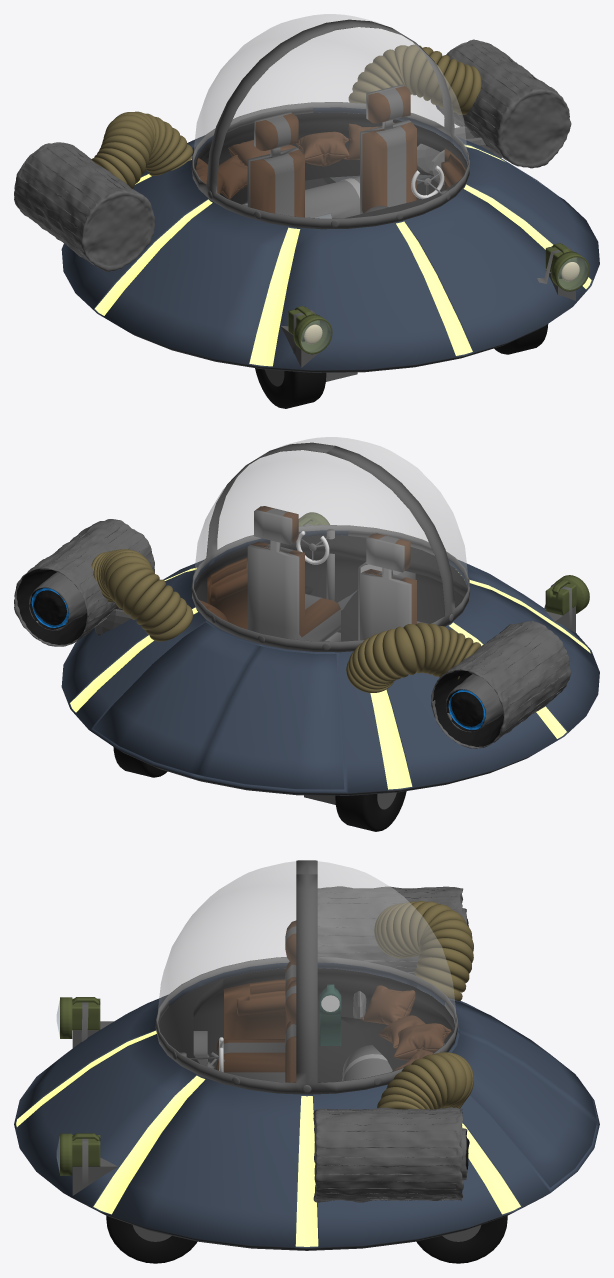
The model's file is rick_and_morty_space_ship.glb.
3 views of the same model, one above another, from view 1: azimuth 30°, elevation 25°; view 2: azimuth 150°, elevation 25°; view 3: azimuth 270°, elevation 25° (orthographic). The views are drawn at different scales.
Visible parts, largest first — view 1: Object_23, Object_3, Object_12, Object_26, Object_16, Object_21, Object_17, Object_24, Object_5, Object_19, Object_10, Object_13 (+7 smaller); view 2: Object_23, Object_3, Object_12, Object_16, Object_6, Object_26, Object_10, Object_24, Object_21, Object_17, Object_25, Object_22 (+2 smaller); view 3: Object_23, Object_3, Object_12, Object_26, Object_16, Object_24, Object_17, Object_21, Object_10, Object_19, Object_13, Object_25 (+5 smaller).
Part boxes in pixels (box(x1,y1,x2,y2)): Object_23: box(61, 107, 599, 370); Object_3: box(194, 14, 467, 218); Object_12: box(14, 39, 571, 354); Object_26: box(191, 19, 470, 381); Object_16: box(91, 44, 481, 188); Object_21: box(250, 86, 465, 217); Object_17: box(95, 144, 591, 366); Object_24: box(194, 112, 467, 218); Object_5: box(264, 88, 406, 216); Object_19: box(194, 131, 349, 199); Object_10: box(255, 324, 548, 408); Object_13: box(265, 126, 575, 386); Object_23: box(61, 530, 599, 793); Object_3: box(194, 437, 467, 641); Object_12: box(14, 519, 572, 748); Object_16: box(91, 549, 481, 692); Object_6: box(247, 509, 411, 641); Object_26: box(191, 442, 470, 804); Object_10: box(16, 569, 503, 831); Object_24: box(194, 535, 467, 641); Object_21: box(207, 506, 416, 637); Object_17: box(70, 567, 590, 789); Object_25: box(298, 516, 583, 615); Object_22: box(119, 581, 532, 795); Object_23: box(14, 962, 599, 1247); Object_3: box(158, 861, 455, 1082); Object_12: box(81, 886, 467, 1202); Object_26: box(155, 860, 458, 1094); Object_16: box(374, 901, 473, 1109); Object_24: box(159, 968, 454, 1082); Object_17: box(16, 1030, 520, 1246); Object_21: box(216, 920, 296, 1082); Object_10: box(106, 909, 507, 1263); Object_19: box(362, 996, 451, 1070); Object_13: box(72, 991, 481, 1241); Object_25: box(72, 997, 100, 1166).
Bounding box in the file's own units: 3.52 × 2.04 × 3.34.
